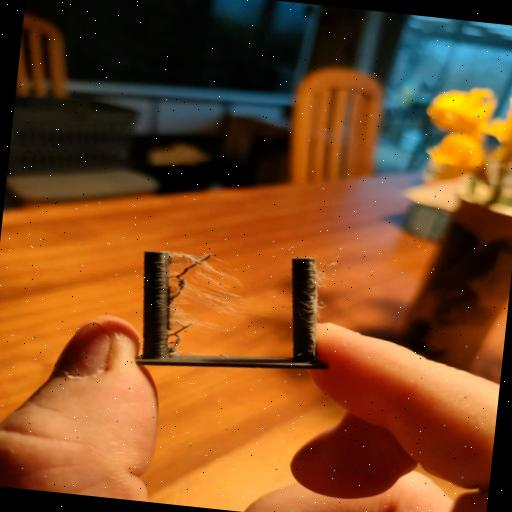stringing: (161, 256, 248, 326)
